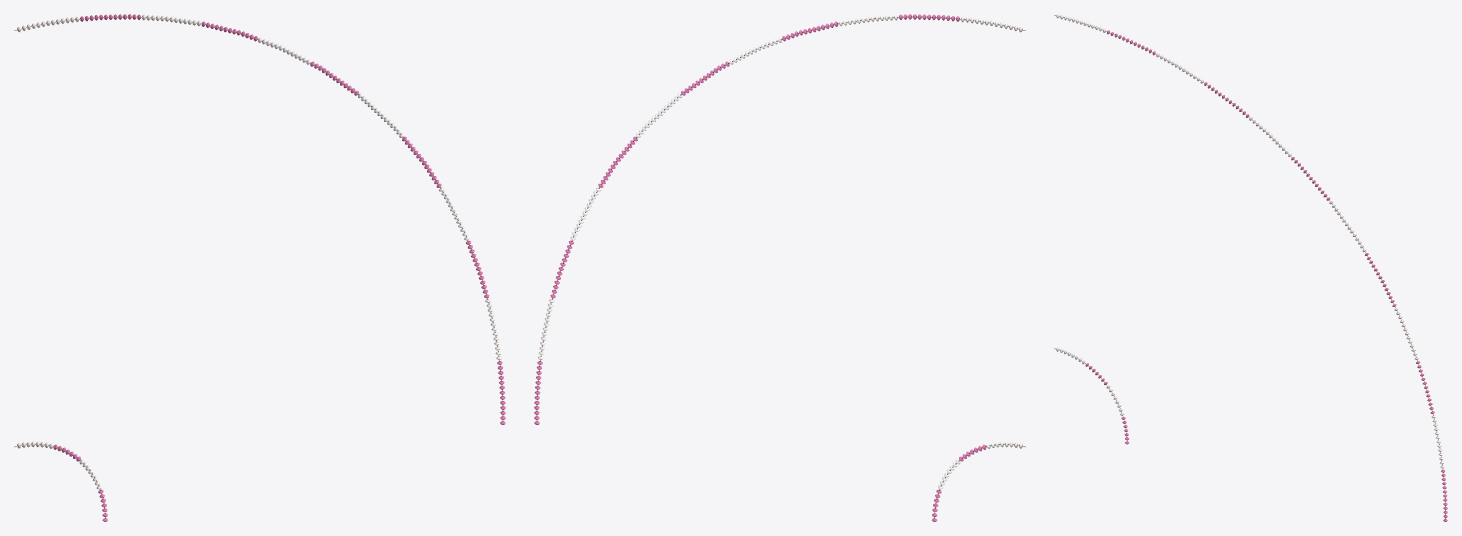
Rendered from Corner_border_mesh.fbx.
3 views of the same model, side by side, from view 1: azimuth 30°, elevation 25°; view 2: azimuth 150°, elevation 25°; view 3: azimuth 330°, elevation 25° (orthographic). The views are drawn at different scales.
Visible parts, largest first — view 1: Torus.001, Torus.002; view 2: Torus.001, Torus.002; view 3: Torus.001.
Boxes of the visible parts, x1=… form: Torus.001: x1=14, y1=14, x2=505, y2=424; Torus.002: x1=14, y1=441, x2=107, y2=521; Torus.001: x1=534, y1=14, x2=1025, y2=424; Torus.002: x1=932, y1=441, x2=1025, y2=521; Torus.001: x1=1054, y1=14, x2=1447, y2=521.
Bounding box in the file's own units: 5932 × 5948 × 60.
